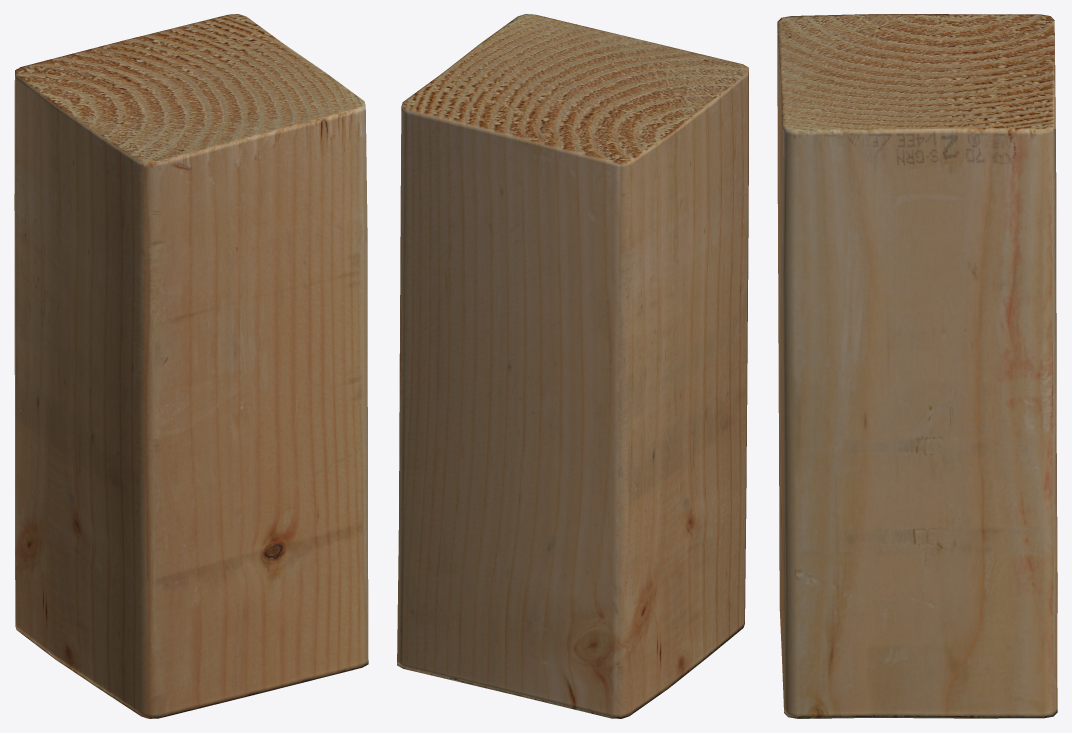
Rendered from 036_wood_block.dae.
The picture shows the model from 3 angles, left to right: view 1: azimuth 30°, elevation 25°; view 2: azimuth 150°, elevation 25°; view 3: azimuth 270°, elevation 25°; orthographic projection. The views are drawn at different scales.
Parts seen in each view (by area): view 1: 036_wood_block; view 2: 036_wood_block; view 3: 036_wood_block.
Boxes of the visible parts, x1=… form: 036_wood_block: x1=14, y1=14, x2=368, y2=718; 036_wood_block: x1=397, y1=14, x2=748, y2=718; 036_wood_block: x1=777, y1=14, x2=1057, y2=718.
Size of the model in its own units: 0.0904 by 0.0888 by 0.2054.
1 material, 1 textured.
